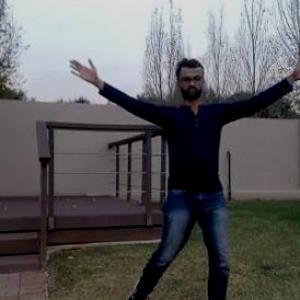takeoff: (53, 51, 300, 299)
